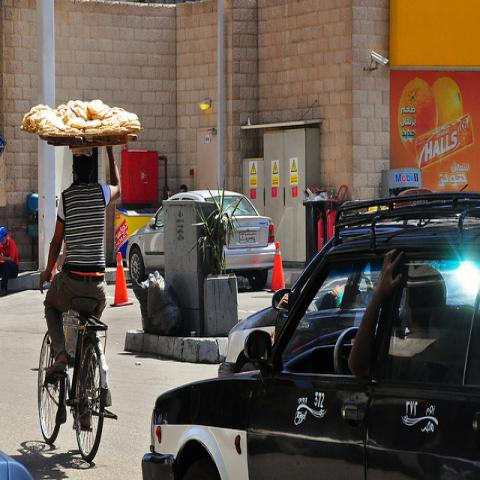car: (140, 192, 480, 479), (216, 231, 336, 376), (125, 189, 276, 288)
